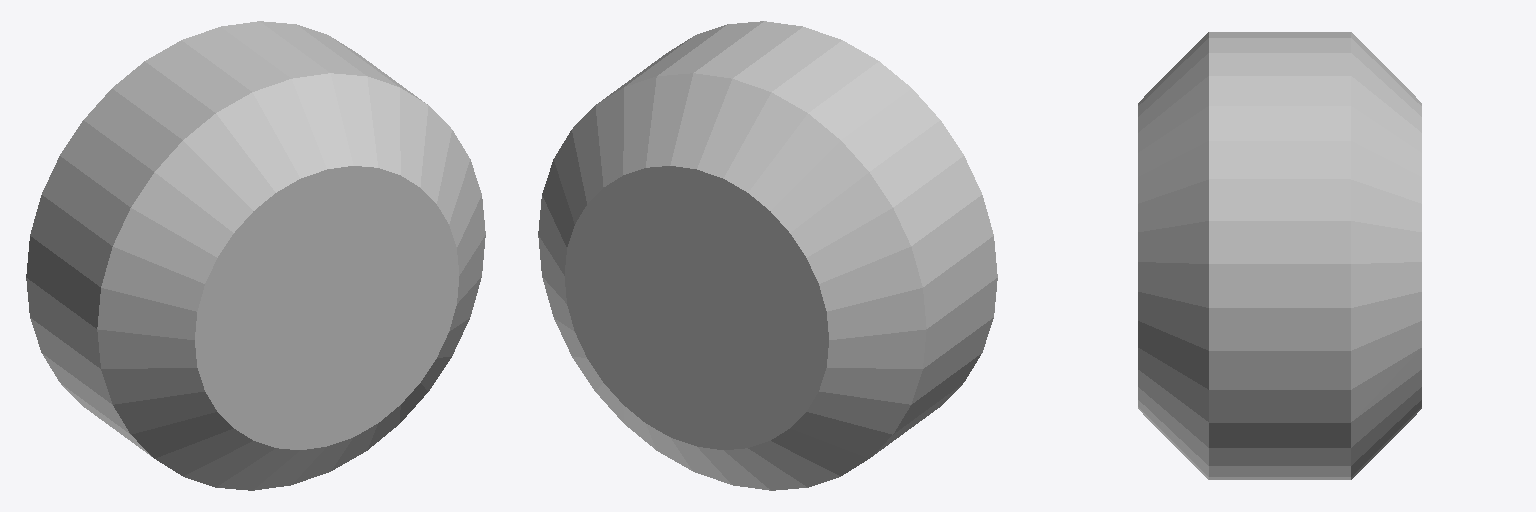
The model's file is point.obj.
The picture shows the model from 3 angles: view 1: azimuth 30°, elevation 25°; view 2: azimuth 150°, elevation 25°; view 3: azimuth 270°, elevation 25°; orthographic projection.
Bounding box in the file's own units: 0.1261 × 0.1261 × 0.08.